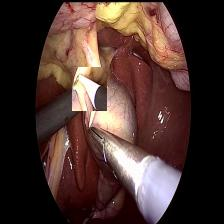Grasper: (80, 120, 112, 162)
Hook: (71, 66, 106, 110)
